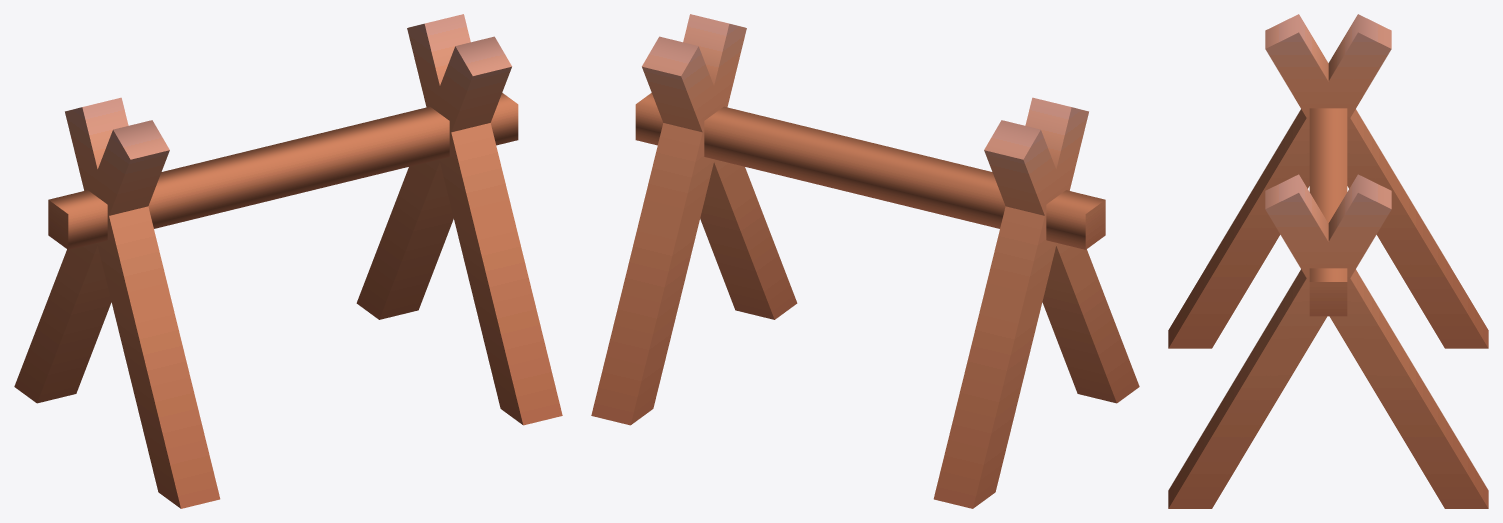
Rendered from campfire-fishing-stand.glb.
3 views of the same model, side by side, from view 1: azimuth 30°, elevation 25°; view 2: azimuth 150°, elevation 25°; view 3: azimuth 270°, elevation 25° (orthographic). The views are drawn at different scales.
Visible parts, largest first — view 1: campfire-fishing-stand; view 2: campfire-fishing-stand; view 3: campfire-fishing-stand.
Part boxes in pixels (bbox=[...]): campfire-fishing-stand: bbox=[14, 14, 562, 508]; campfire-fishing-stand: bbox=[591, 14, 1139, 508]; campfire-fishing-stand: bbox=[1168, 14, 1488, 508].
Bounding box in the file's own units: 0.3945 × 0.276 × 0.2533.
Materials: 1 (1 with a texture image).
